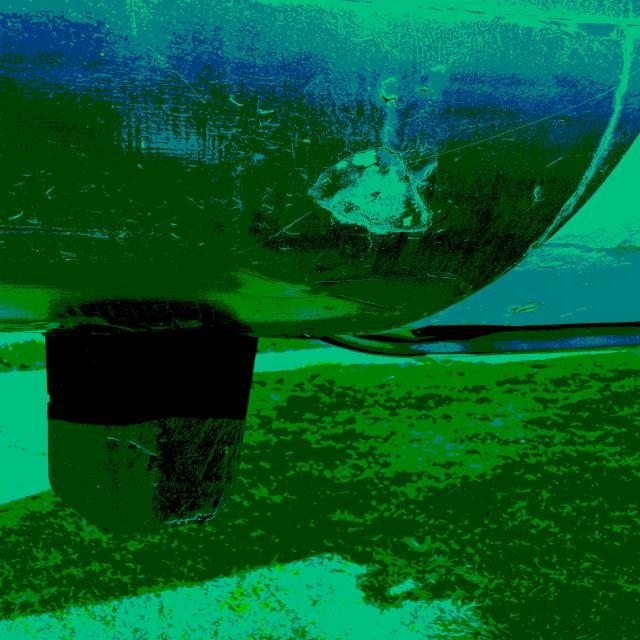crack: (376, 85, 449, 112)
dent: (307, 148, 446, 243)
